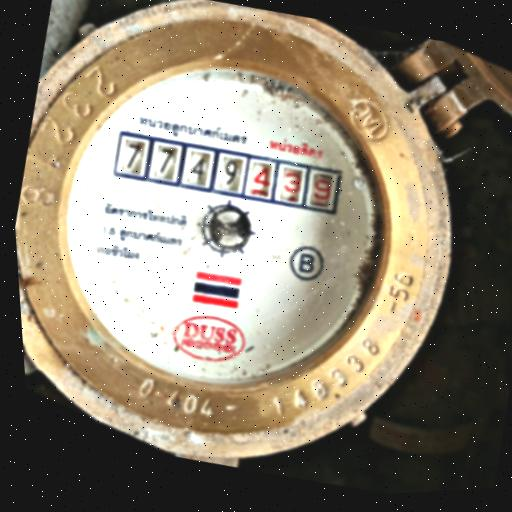3: (277, 166, 305, 204)
4: (247, 161, 275, 200), (184, 151, 213, 187)
7: (151, 144, 181, 182), (120, 140, 147, 175)
9: (218, 156, 245, 193), (307, 173, 335, 208)
border_water_meter_number: (110, 119, 347, 227)
